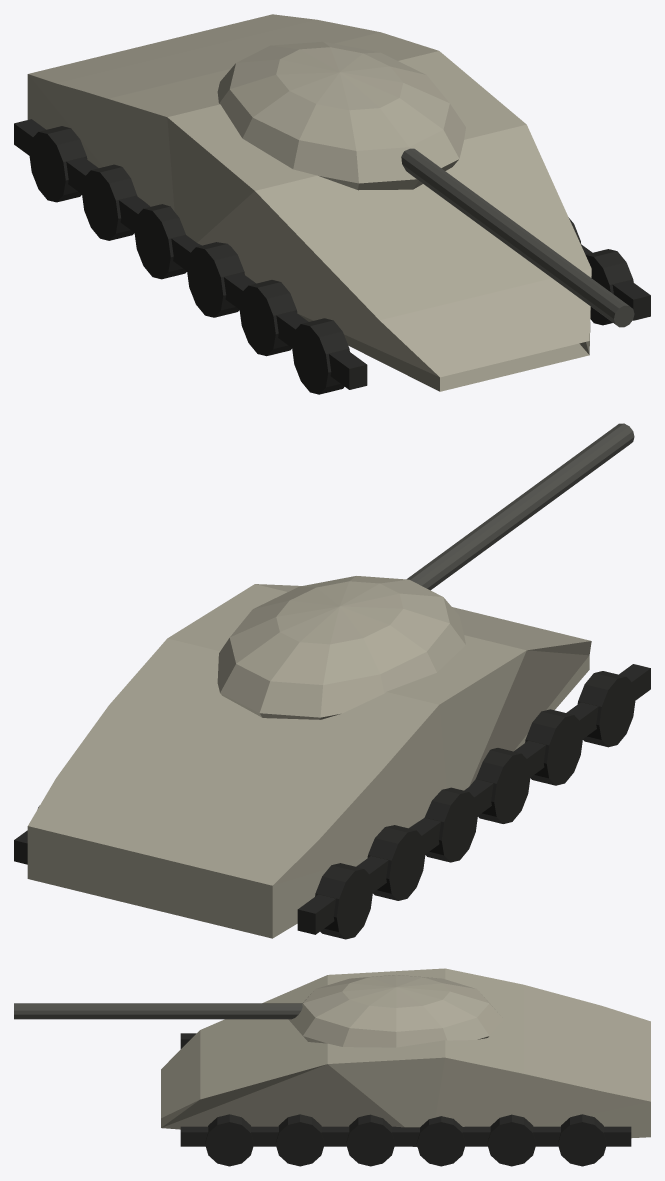
Rendered from bmp2.glb.
3 views of the same model, one above another, from view 1: azimuth 30°, elevation 25°; view 2: azimuth 150°, elevation 25°; view 3: azimuth 270°, elevation 25° (orthographic). The views are drawn at different scales.
Visible parts, largest first — view 1: Hull, Turret, Gun, Track_L, Wheel_L_06, Wheel_L_02, Wheel_L_01, Wheel_L_03, Wheel_L_05, Wheel_L_04, Wheel_R_01, Track_R; view 2: Hull, Turret, Gun, Track_L, Wheel_L_01, Wheel_L_02, Wheel_L_06, Wheel_L_05, Wheel_L_03, Wheel_L_04; view 3: Hull, Turret, Gun, Track_R, Wheel_R_01, Wheel_R_02, Wheel_R_06, Wheel_R_05, Wheel_R_03, Wheel_R_04.
Part boxes in pixels (<box>): Hull: <box>27,14,591,391</box>; Turret: <box>217,41,465,190</box>; Gun: <box>401,148,634,327</box>; Track_L: <box>14,119,367,389</box>; Wheel_L_06: <box>29,126,87,202</box>; Wheel_L_02: <box>239,280,297,356</box>; Wheel_L_01: <box>292,318,349,394</box>; Wheel_L_03: <box>186,242,244,317</box>; Wheel_L_05: <box>81,164,137,240</box>; Wheel_L_04: <box>134,204,186,279</box>; Wheel_R_01: <box>585,249,633,325</box>; Track_R: <box>581,244,650,320</box>; Hull: <box>27,584,591,938</box>; Turret: <box>217,576,465,719</box>; Gun: <box>407,423,634,590</box>; Track_L: <box>297,664,650,934</box>; Wheel_L_01: <box>577,671,635,747</box>; Wheel_L_02: <box>525,709,583,785</box>; Wheel_L_06: <box>315,863,372,939</box>; Wheel_L_05: <box>367,825,425,900</box>; Wheel_L_03: <box>476,748,530,823</box>; Wheel_L_04: <box>424,787,477,862</box>; Hull: <box>161,968,650,1147</box>; Turret: <box>288,975,503,1047</box>; Gun: <box>14,1003,302,1019</box>; Track_R: <box>180,1126,631,1146</box>; Wheel_R_01: <box>205,1114,253,1166</box>; Wheel_R_02: <box>275,1114,324,1166</box>; Wheel_R_06: <box>558,1114,606,1166</box>; Wheel_R_05: <box>487,1114,536,1166</box>; Wheel_R_03: <box>346,1114,395,1166</box>; Wheel_R_04: <box>416,1116,465,1166</box>.
Size of the model in its own units: 3.28 by 1.95 by 8.75.
